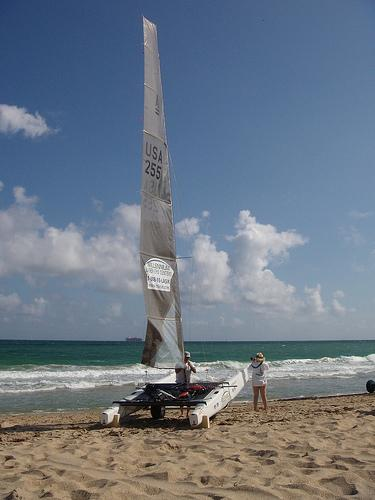Ship: (107, 17, 252, 431)
